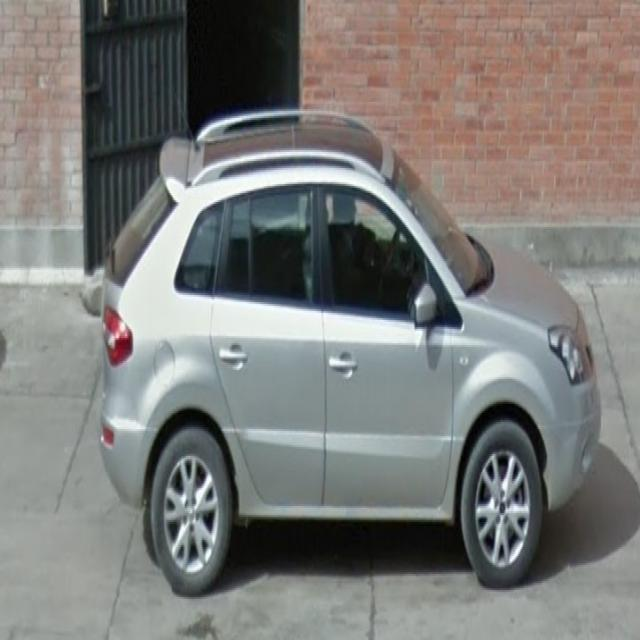Car: (87, 116, 592, 602)
